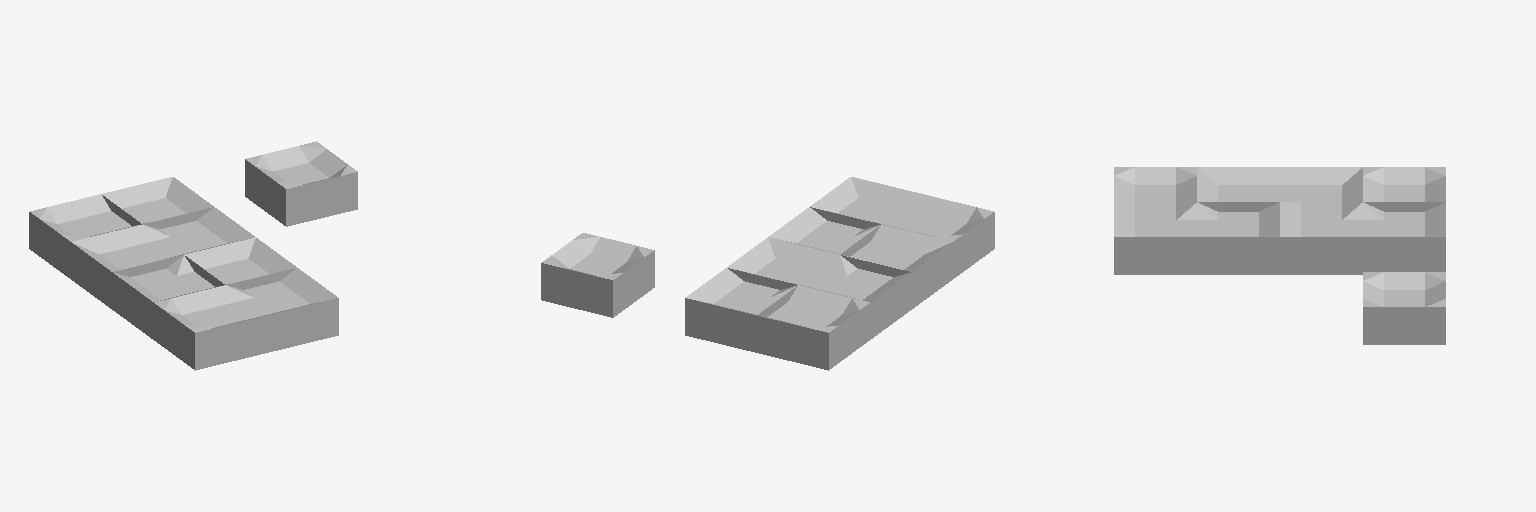
File: 40f_path.obj
The picture shows the model from 3 angles: view 1: azimuth 30°, elevation 25°; view 2: azimuth 150°, elevation 25°; view 3: azimuth 270°, elevation 25°; orthographic projection.
Visible parts, largest first — view 1: foil.hole.3.3_Cube.231, foil.ending.0.0_ending.459, foil.corner.1.0_corner.1135, foil.corner.0.2_corner.1134, foil.ending.0.3_ending.460, foil.corner.0.1_corner.1133, foil.corner.1.2_corner.1137, foil.corner.1.3_corner.1138, foil.corner.1.1_corner.1136; view 2: foil.hole.3.3_Cube.231, foil.ending.0.3_ending.460, foil.corner.1.3_corner.1138, foil.corner.0.1_corner.1133, foil.ending.0.0_ending.459, foil.corner.0.2_corner.1134, foil.corner.1.0_corner.1135, foil.corner.1.2_corner.1137, foil.corner.1.1_corner.1136; view 3: foil.hole.3.3_Cube.231, foil.corner.1.3_corner.1138, foil.corner.1.1_corner.1136, foil.corner.1.0_corner.1135, foil.corner.1.2_corner.1137, foil.corner.0.2_corner.1134, foil.ending.0.0_ending.459, foil.corner.0.1_corner.1133, foil.ending.0.3_ending.460.
Boxes of the visible parts, <box> form: foil.hole.3.3_Cube.231: <box>245,141,357,226</box>; foil.ending.0.0_ending.459: <box>154,285,266,370</box>; foil.corner.1.0_corner.1135: <box>226,268,338,352</box>; foil.corner.0.2_corner.1134: <box>71,224,182,308</box>; foil.ending.0.3_ending.460: <box>29,194,137,278</box>; foil.corner.0.1_corner.1133: <box>112,255,223,339</box>; foil.corner.1.2_corner.1137: <box>143,207,254,255</box>; foil.corner.1.3_corner.1138: <box>102,177,213,225</box>; foil.corner.1.1_corner.1136: <box>185,237,296,285</box>; foil.hole.3.3_Cube.231: <box>541,233,654,317</box>; foil.ending.0.3_ending.460: <box>757,285,869,370</box>; foil.corner.1.3_corner.1138: <box>685,268,797,352</box>; foil.corner.0.1_corner.1133: <box>840,224,952,308</box>; foil.ending.0.0_ending.459: <box>886,194,994,278</box>; foil.corner.0.2_corner.1134: <box>800,255,911,339</box>; foil.corner.1.0_corner.1135: <box>810,177,921,228</box>; foil.corner.1.2_corner.1137: <box>727,237,838,289</box>; foil.corner.1.1_corner.1136: <box>769,207,880,255</box>; foil.hole.3.3_Cube.231: <box>1363,272,1445,344</box>; foil.corner.1.3_corner.1138: <box>1363,202,1445,271</box>; foil.corner.1.1_corner.1136: <box>1197,202,1279,274</box>; foil.corner.1.0_corner.1135: <box>1114,202,1196,274</box>; foil.corner.1.2_corner.1137: <box>1280,202,1362,274</box>; foil.corner.0.2_corner.1134: <box>1280,167,1362,211</box>; foil.ending.0.0_ending.459: <box>1114,167,1196,211</box>; foil.corner.0.1_corner.1133: <box>1197,167,1279,211</box>; foil.ending.0.3_ending.460: <box>1363,167,1445,201</box>.
Bounding box in the file's own units: 8 × 1 × 8.